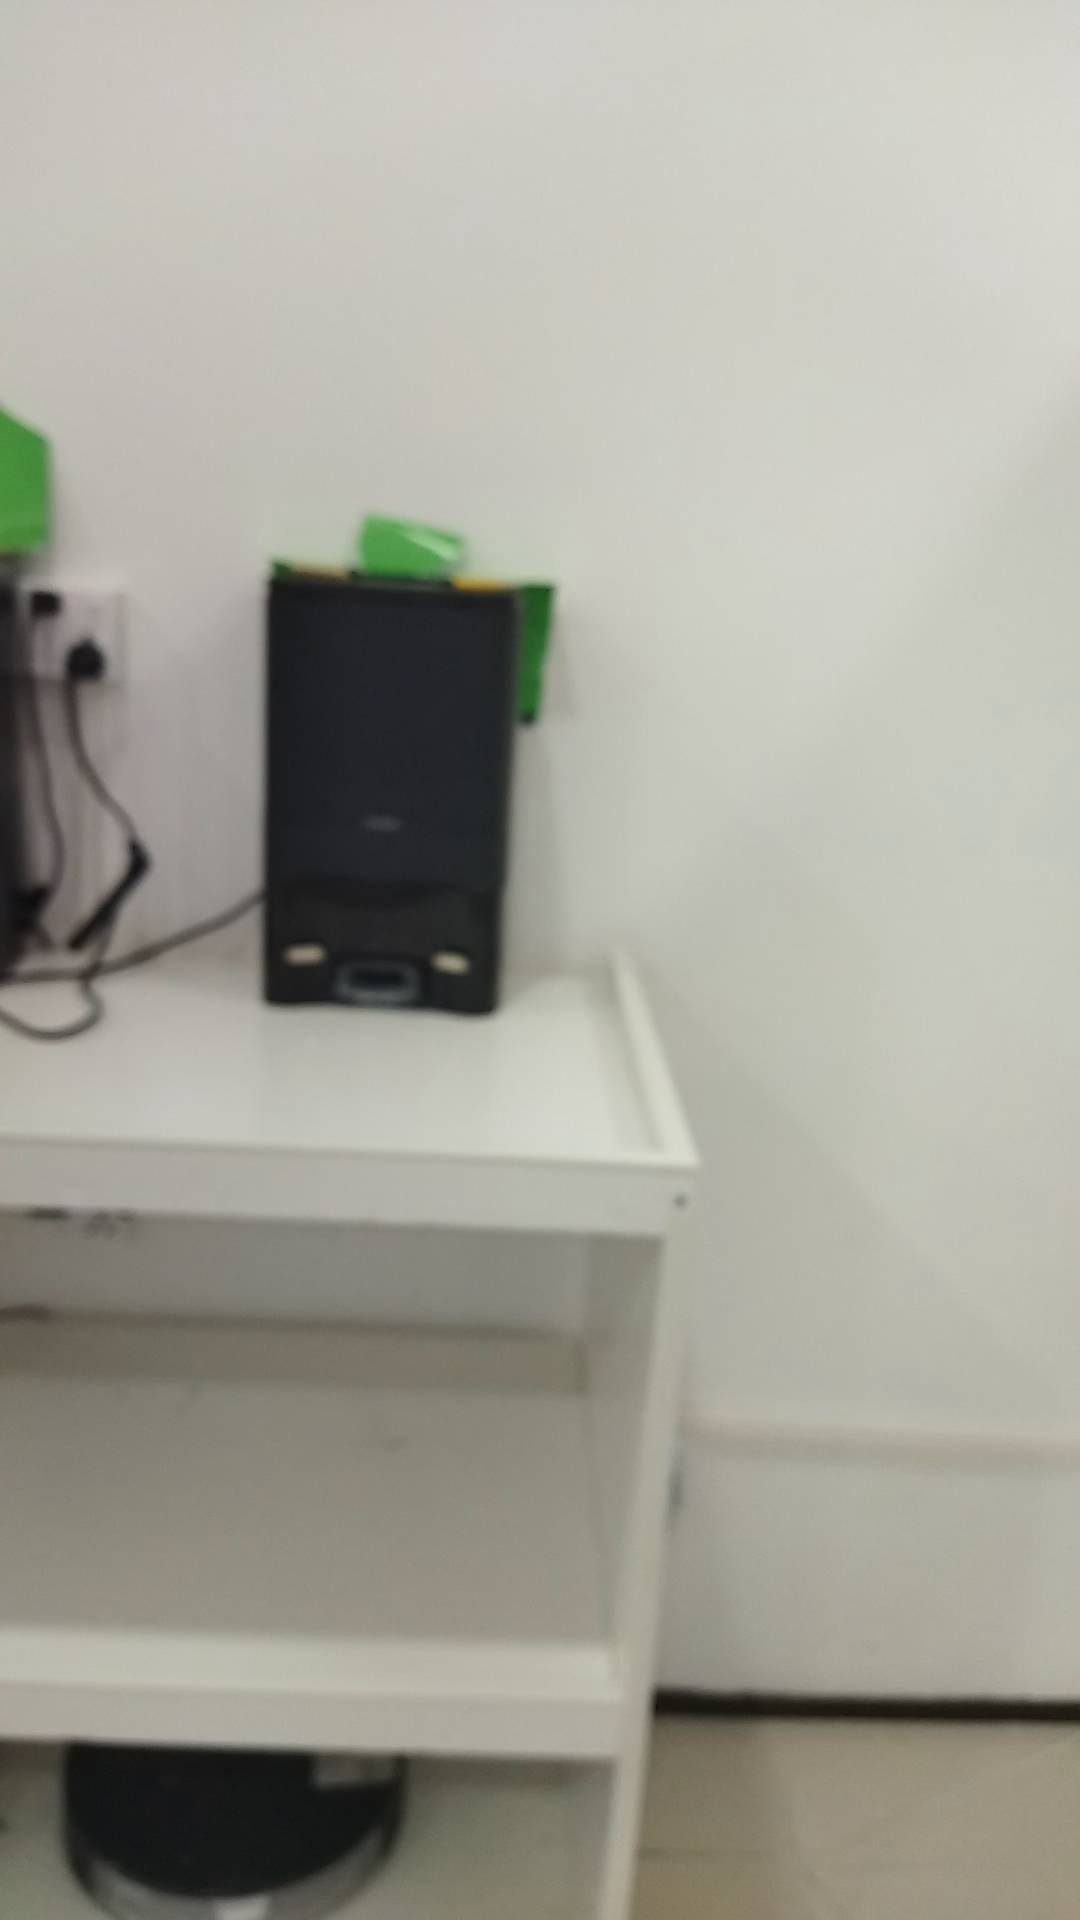dust collecting barrel: (258, 571, 526, 1025)
